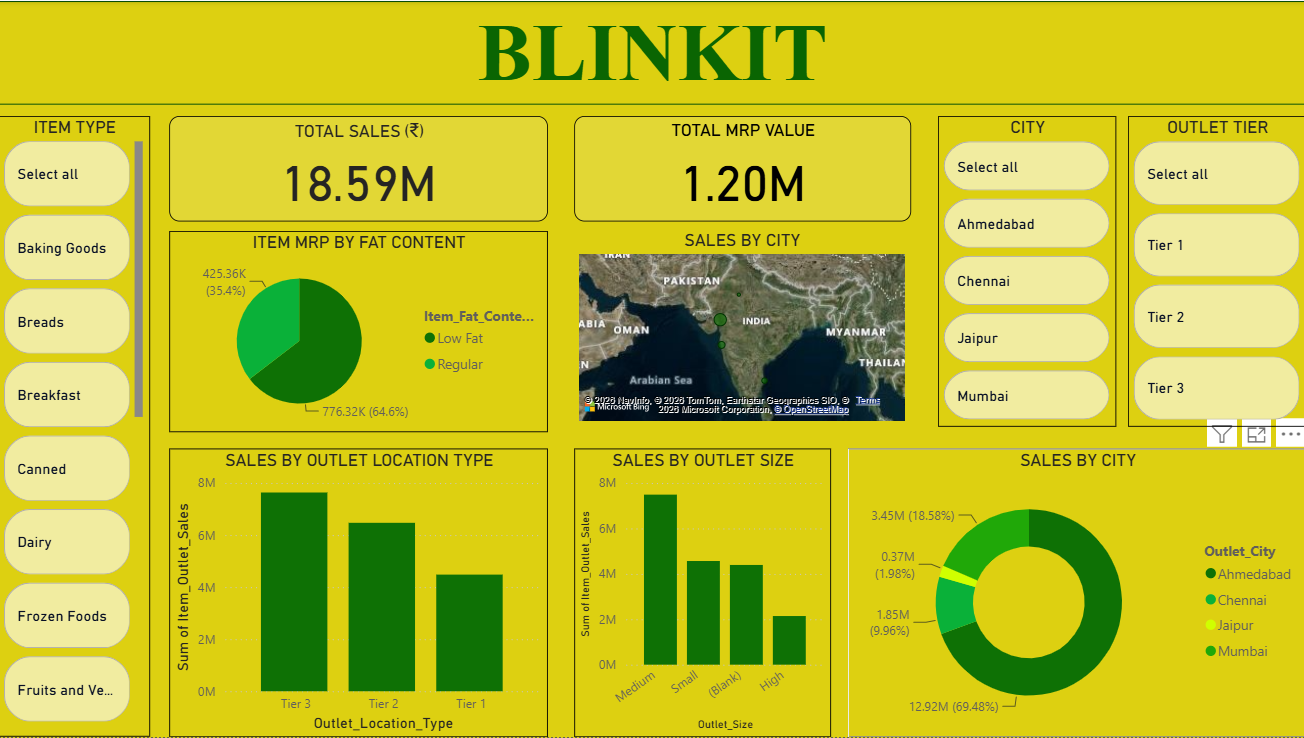

This screenshot's page, from the dashboard's own definition file:
{"tool":"powerbi","page":{"name":"Page 1","canvas":[1280,720],"ordinal":0},"visuals":[{"type":"lineClusteredColumnComboChart","title":"SALES BY OUTLET LOCATION TYPE","fields":{"Y":["Sum(Sheet2.Item_Outlet_Sales)"],"Category":["Sheet2.Outlet_Location_Type"]},"box":[167.4,437.7,370.5,282.7],"z":0},{"type":"advancedSlicerVisual","title":"ITEM TYPE","fields":{"Values":["Sheet2.Item_Type"]},"box":[0,112.9,148.6,607.1],"z":1000},{"type":"pieChart","title":"ITEM MRP BY FAT CONTENT","fields":{"Y":["Sum(Sheet2.Item_MRP)"],"Category":["Sheet2.Item_Fat_Content_Clean"]},"box":[167.3,225.4,370.2,197],"z":2000},{"type":"donutChart","title":"SALES BY CITY","fields":{"Series":["Sheet2.Outlet_Type"],"Y":["Sum(Sheet2.Item_Outlet_Sales)"]},"box":[831.6,437.7,448.7,282.7],"z":3000},{"type":"clusteredColumnChart","title":"SALES BY OUTLET SIZE ","fields":{"Y":["Sum(Sheet2.Item_Outlet_Sales)"],"Category":["Sheet2.Outlet_Size"]},"box":[564,437.7,251.1,282.7],"z":4000},{"type":"card","title":"TOTAL SALES (₹)","fields":{"Values":["Sum(Sheet2.Item_Outlet_Sales)"]},"box":[167.1,112.9,370,102.9],"z":5000},{"type":"shape","box":[0,0,1280,101.4],"z":6000},{"type":"advancedSlicerVisual","title":"OUTLET TIER","fields":{"Values":["Sheet2.Outlet_Location_Type"]},"box":[1105.7,112.9,174.3,304.3],"z":7000},{"type":"card","title":"TOTAL MRP VALUE","fields":{"Values":["Sum(Sheet2.Item_MRP)"]},"box":[564,112.5,329.3,102.9],"z":8000},{"type":"map","title":"SALES BY CITY","fields":{"Category":["Sheet2.Outlet_Type"],"Size":["Sum(Sheet2.Item_Outlet_Sales)"]},"box":[564,219.6,329.3,196.2],"z":9000},{"type":"advancedSlicerVisual","title":"CITY","fields":{"Values":["Sheet2.Outlet_Type"]},"box":[920,112.9,174.3,304.3],"z":10000}]}

Visuals, with their boxes in screenshot pixels (x1, y1, x2, y2), scaled from the page's 1280x720 canvas onto the 1304x738 screenshot:
"SALES BY OUTLET LOCATION TYPE" lineClusteredColumnComboChart: 171, 449, 548, 737
"ITEM TYPE" advancedSlicerVisual: 0, 116, 151, 737
"ITEM MRP BY FAT CONTENT" pieChart: 170, 231, 548, 433
"SALES BY CITY" donutChart: 847, 449, 1303, 737
"SALES BY OUTLET SIZE " clusteredColumnChart: 575, 449, 830, 737
"TOTAL SALES (₹)" card: 170, 116, 547, 221
shape: 0, 0, 1303, 104
"OUTLET TIER" advancedSlicerVisual: 1126, 116, 1303, 428
"TOTAL MRP VALUE" card: 575, 115, 910, 221
"SALES BY CITY" map: 575, 225, 910, 426
"CITY" advancedSlicerVisual: 937, 116, 1115, 428
